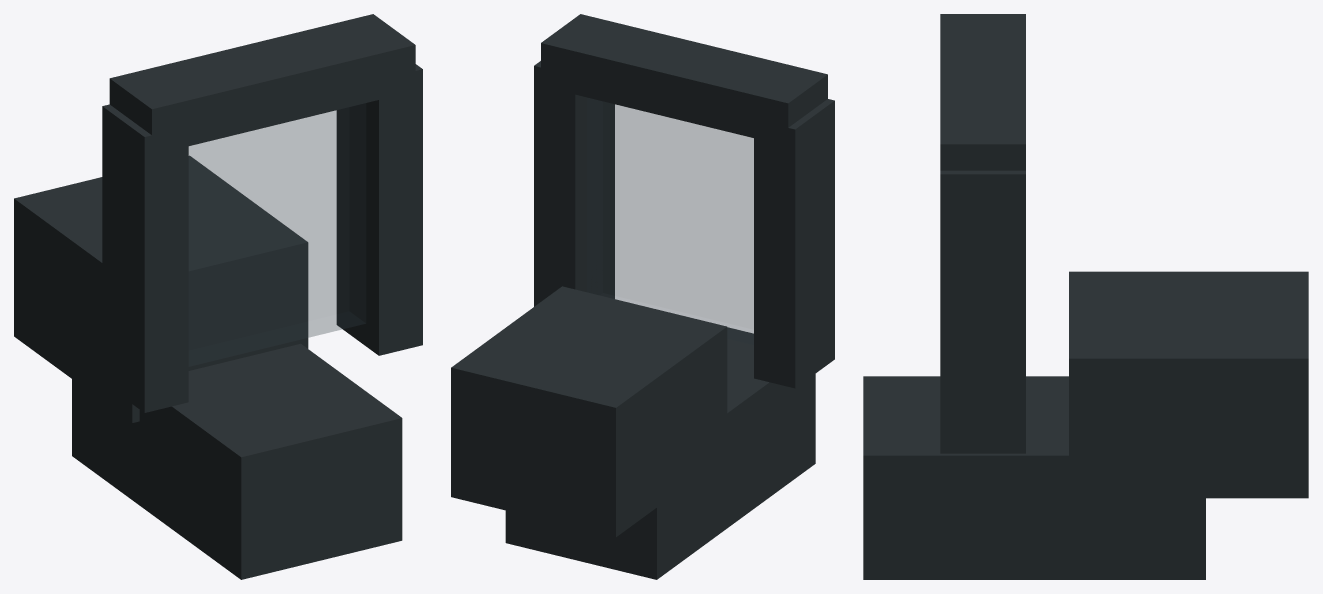
The picture shows the model from 3 angles, left to right: view 1: azimuth 30°, elevation 25°; view 2: azimuth 150°, elevation 25°; view 3: azimuth 270°, elevation 25°; orthographic projection. The views are drawn at different scales.
Visible parts, largest first — view 1: attachment-optic-painted, attachment-optic-glazing; view 2: attachment-optic-painted, attachment-optic-glazing; view 3: attachment-optic-painted.
Part boxes in pixels (x1,y1,x2,y2): attachment-optic-painted: (14,14,422,579); attachment-optic-glazing: (189,103,365,366); attachment-optic-painted: (451,14,834,579); attachment-optic-glazing: (587,98,753,344); attachment-optic-painted: (863,14,1308,579).
Bounding box in the file's own units: 0.5769 × 0.9018 × 0.7895.
